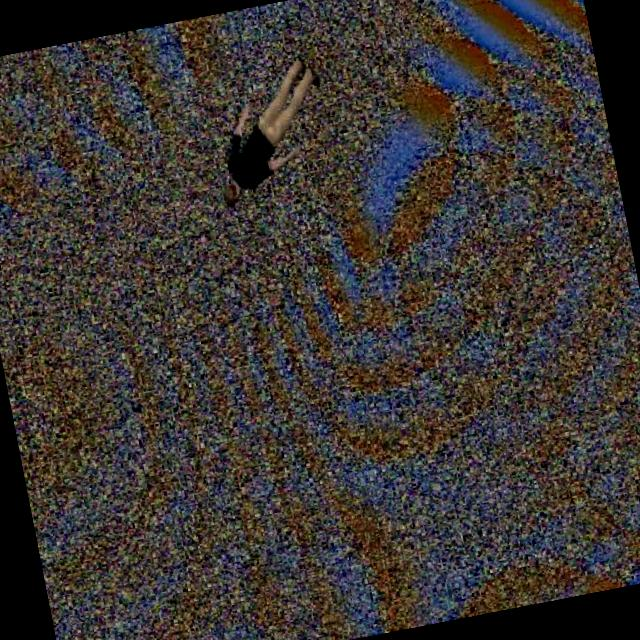Person: (194, 43, 346, 215)
